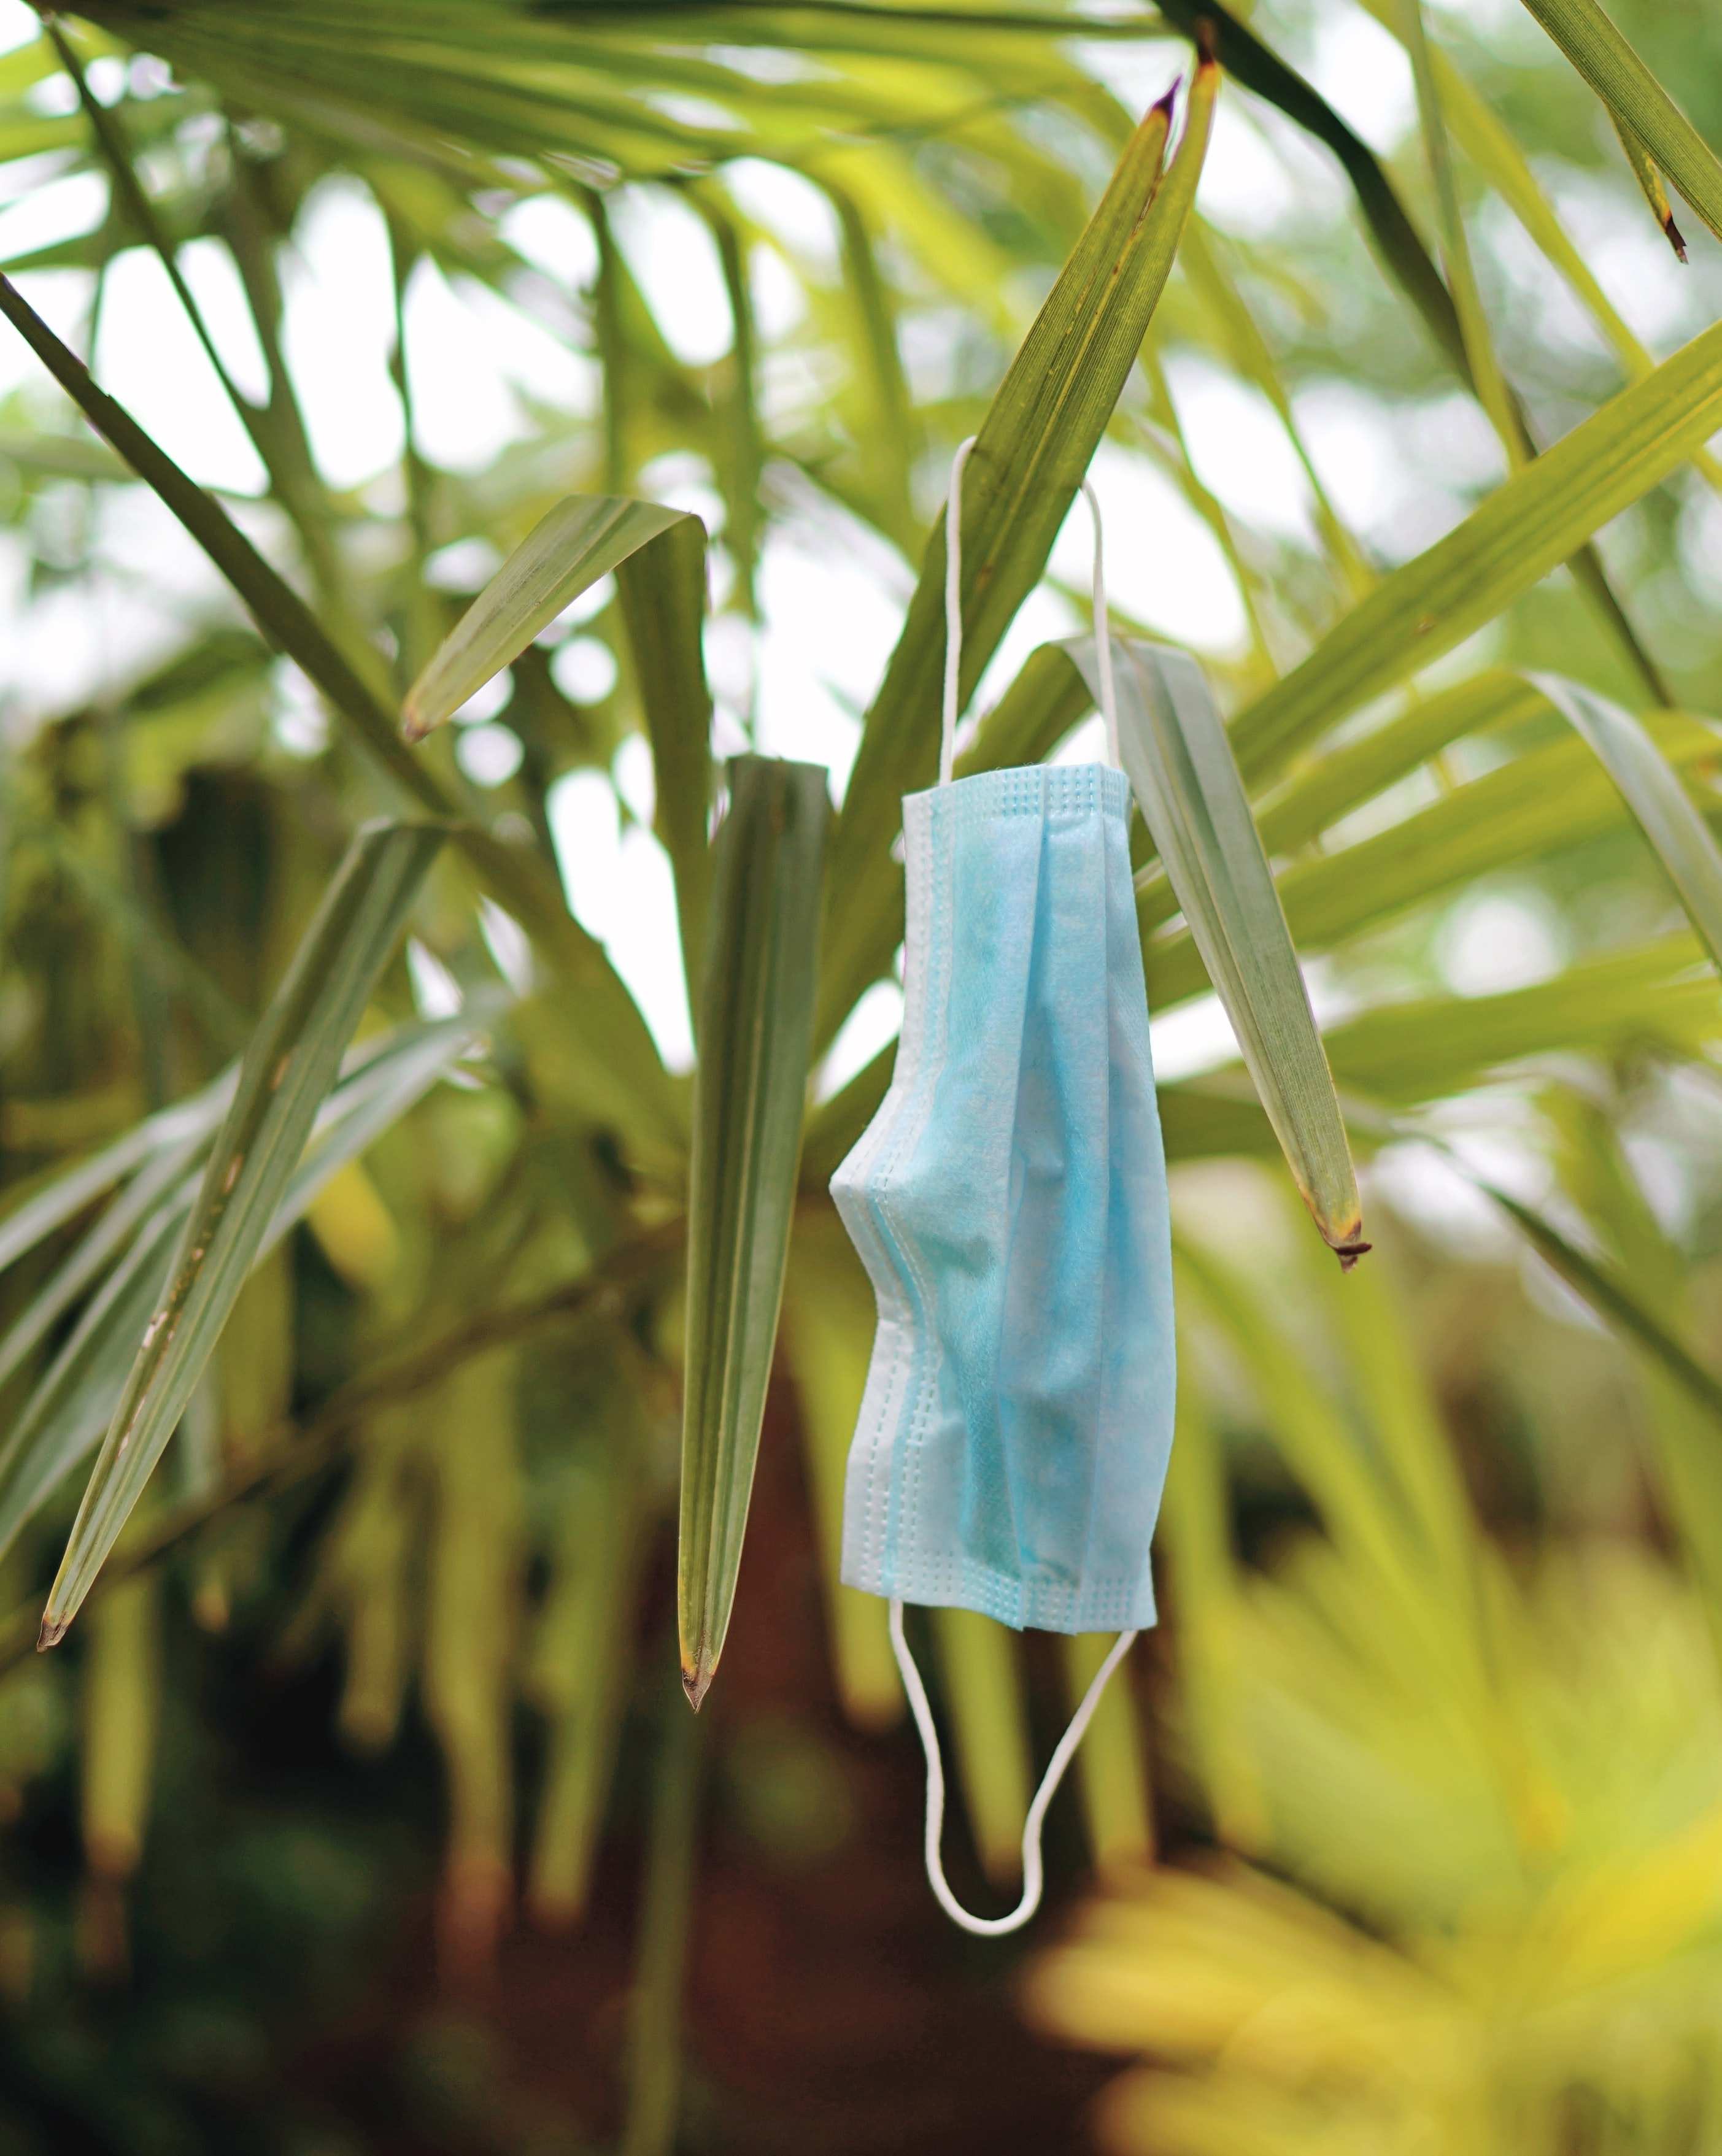mask: (814, 399, 1202, 1975)
